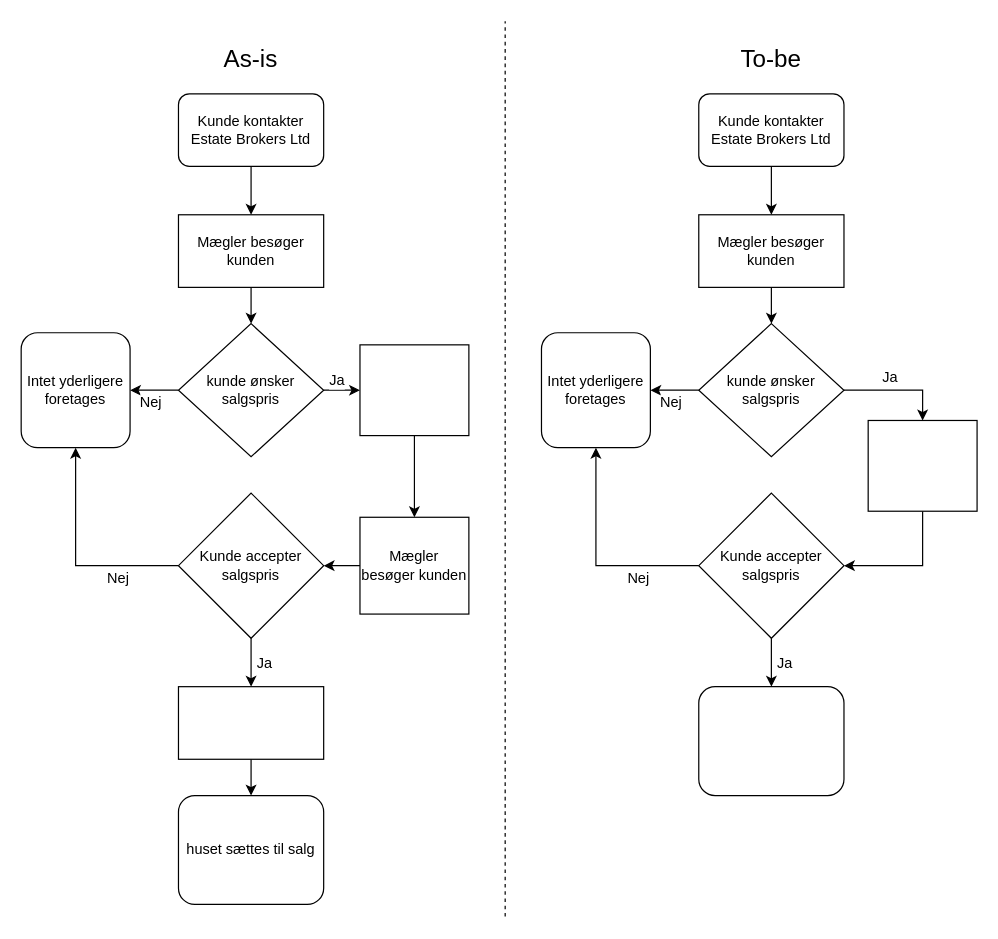
The diagram is 998 pixels wide and 939 high, and some of its shapes have lost their labels. The centre of each missing label's shape, as x and y in pixels:
Hus sættes til salg: the point at 771,740
Mægler opretter ny sag og automatisk salgspris udregnes: the point at 922,465
Mægler returner og udregner pris manuelt: the point at 414,390
Sag oprettes: the point at 250,722
